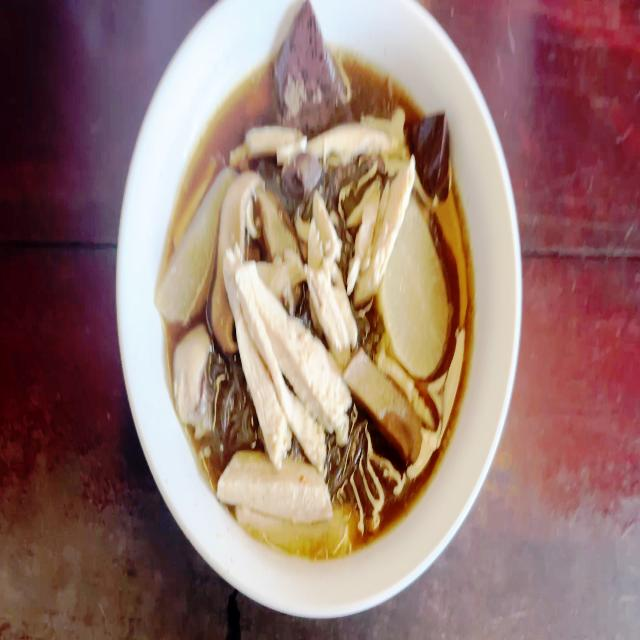boiled_chicken_blood_jelly: (277, 0, 348, 118), (412, 107, 458, 189), (282, 153, 326, 208)
chicken_shredded: (226, 254, 346, 450), (206, 445, 326, 517), (351, 165, 416, 286), (308, 195, 357, 343), (314, 122, 397, 172), (175, 325, 208, 419), (234, 120, 299, 156)
daikon_radish: (157, 167, 220, 321), (384, 223, 444, 369)
noodle: (162, 54, 468, 556)
